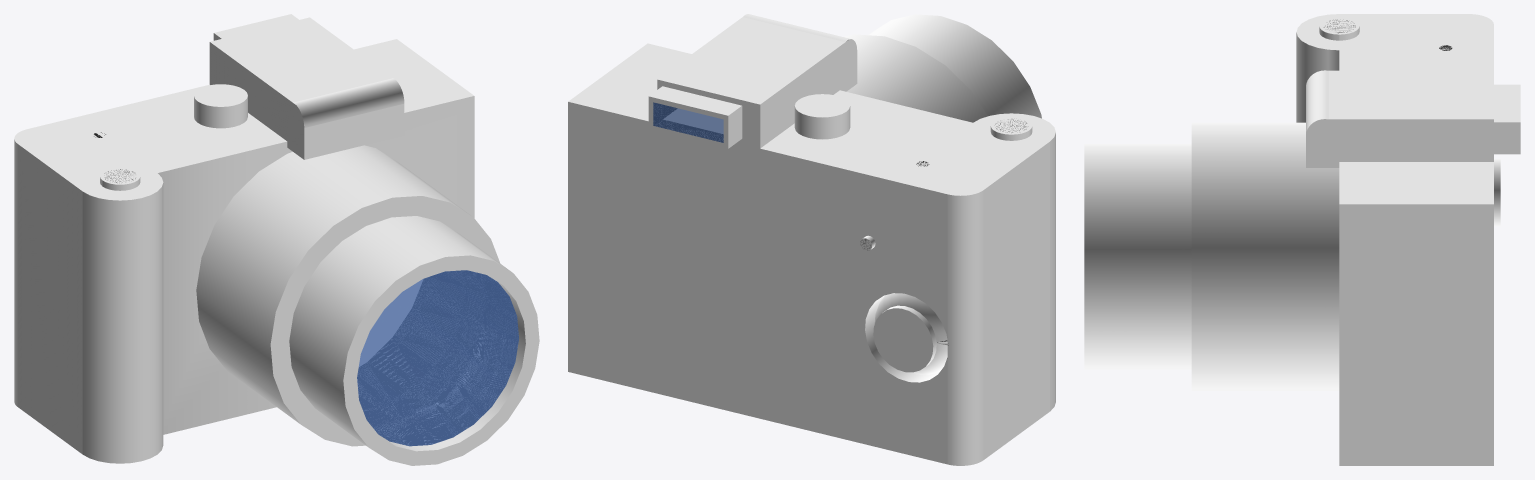
Rendered from model_align.obj.
The picture shows the model from 3 angles, left to right: view 1: azimuth 30°, elevation 25°; view 2: azimuth 150°, elevation 25°; view 3: azimuth 270°, elevation 25°; orthographic projection. The views are drawn at different scales.
Visible parts, largest first — view 1: mesh2_mesh2-geometry, mesh1_mesh1-geometry; view 2: mesh2_mesh2-geometry, mesh1_mesh1-geometry, mesh3_mesh3-geometry; view 3: mesh2_mesh2-geometry, mesh1_mesh1-geometry, mesh3_mesh3-geometry.
Boxes of the visible parts, left/top/right/bottom form: mesh2_mesh2-geometry: left=14, top=14, right=474, bottom=463; mesh1_mesh1-geometry: left=196, top=145, right=539, bottom=465; mesh2_mesh2-geometry: left=568, top=14, right=1055, bottom=465; mesh1_mesh1-geometry: left=844, top=14, right=1041, bottom=122; mesh3_mesh3-geometry: left=873, top=305, right=936, bottom=372; mesh2_mesh2-geometry: left=1296, top=14, right=1520, bottom=465; mesh1_mesh1-geometry: left=1084, top=122, right=1339, bottom=390; mesh3_mesh3-geometry: left=1494, top=159, right=1500, bottom=226.
Size of the model in its own units: 0.1758 by 0.1313 by 0.1706.
